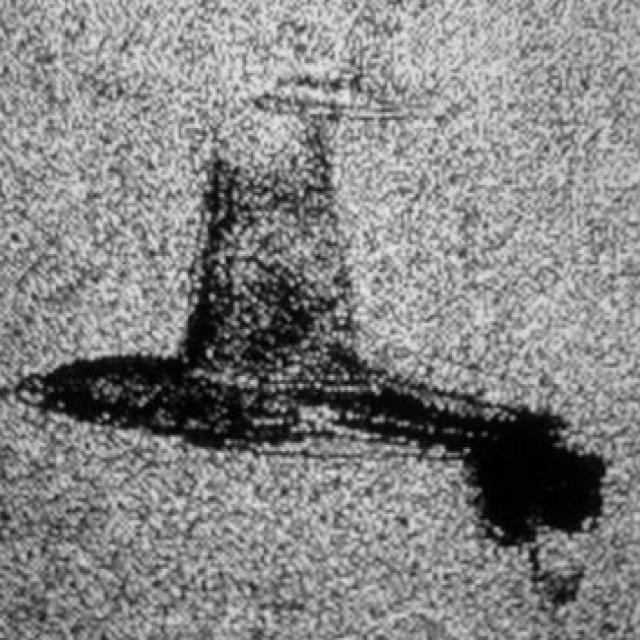plane: (55, 53, 608, 540)
